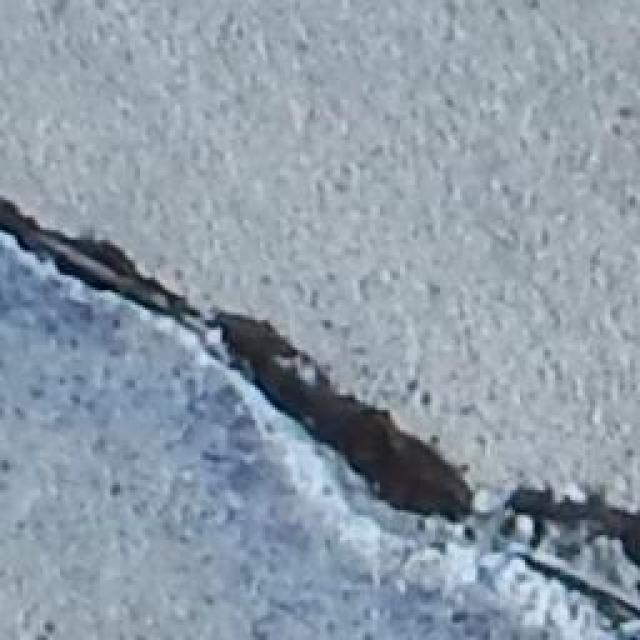concrete-crack: (3, 198, 640, 637)
